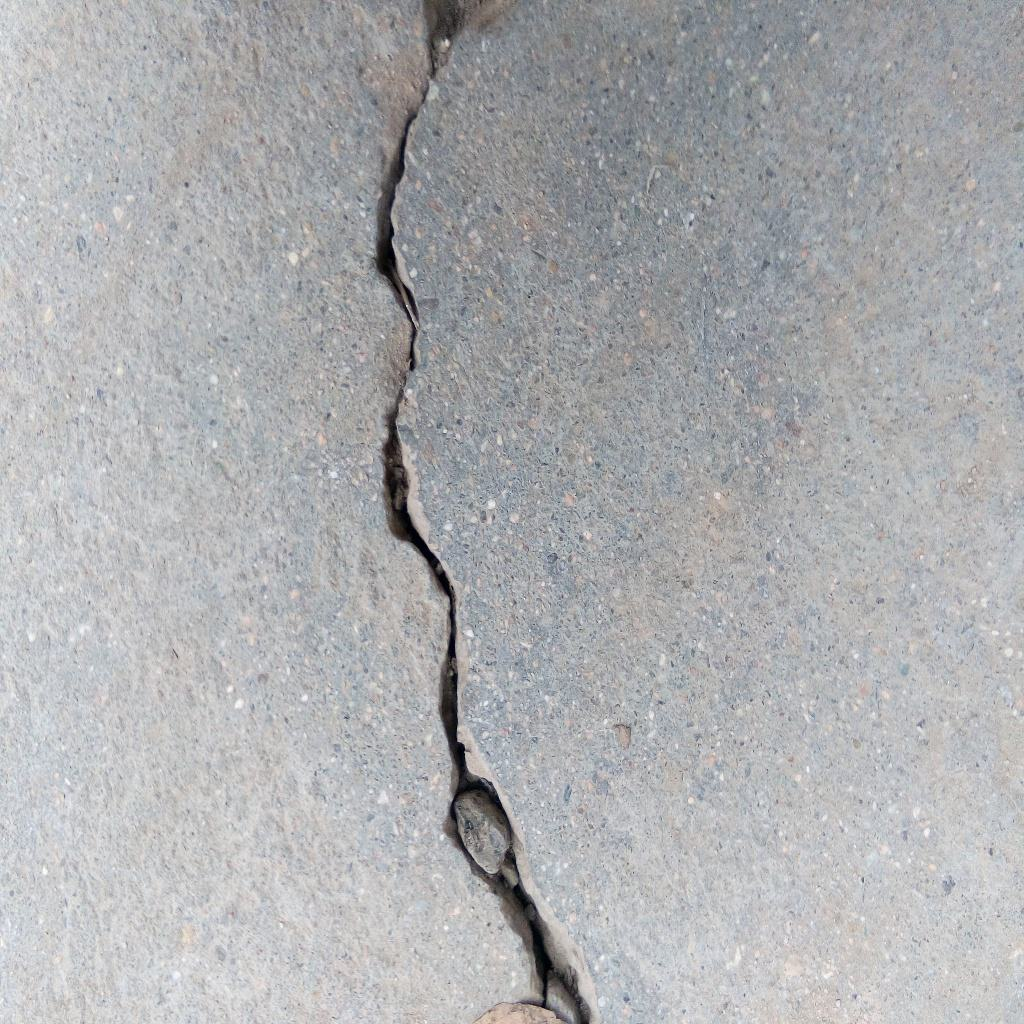Crack: (371, 1, 595, 1024)
